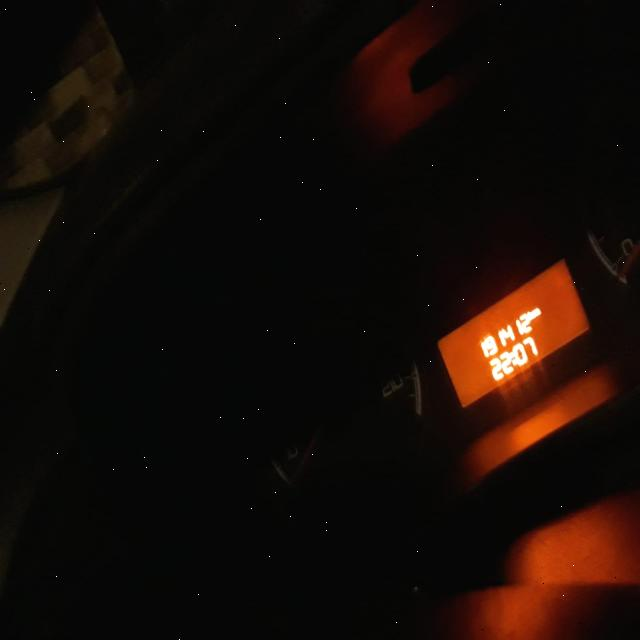odometer: (433, 254, 593, 410)
